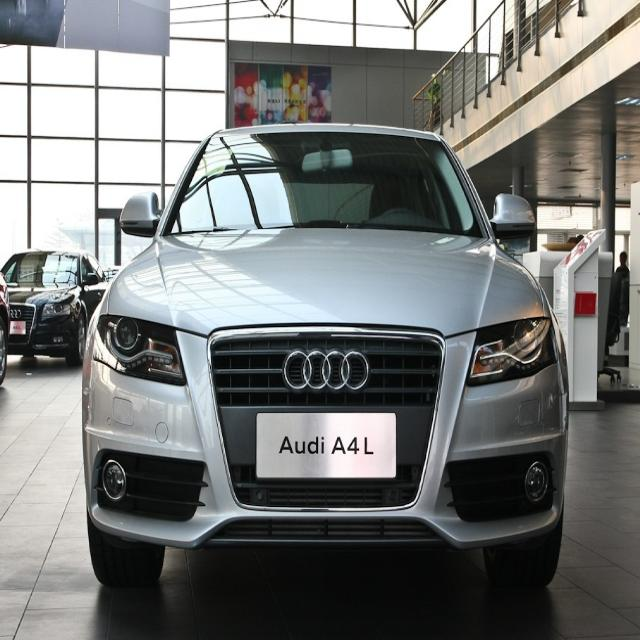front_bumper: (83, 334, 566, 549)
front_glass: (166, 133, 488, 238)
front_left_side_light: (466, 310, 558, 394)
front_left_side_mirror: (488, 189, 538, 249)
front_right_side_light: (91, 306, 186, 388)
front_right_side_mirror: (118, 183, 164, 244)
